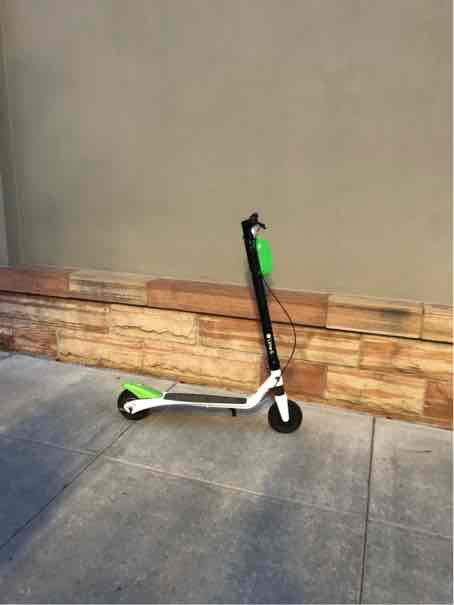scooter: (109, 196, 294, 438)
